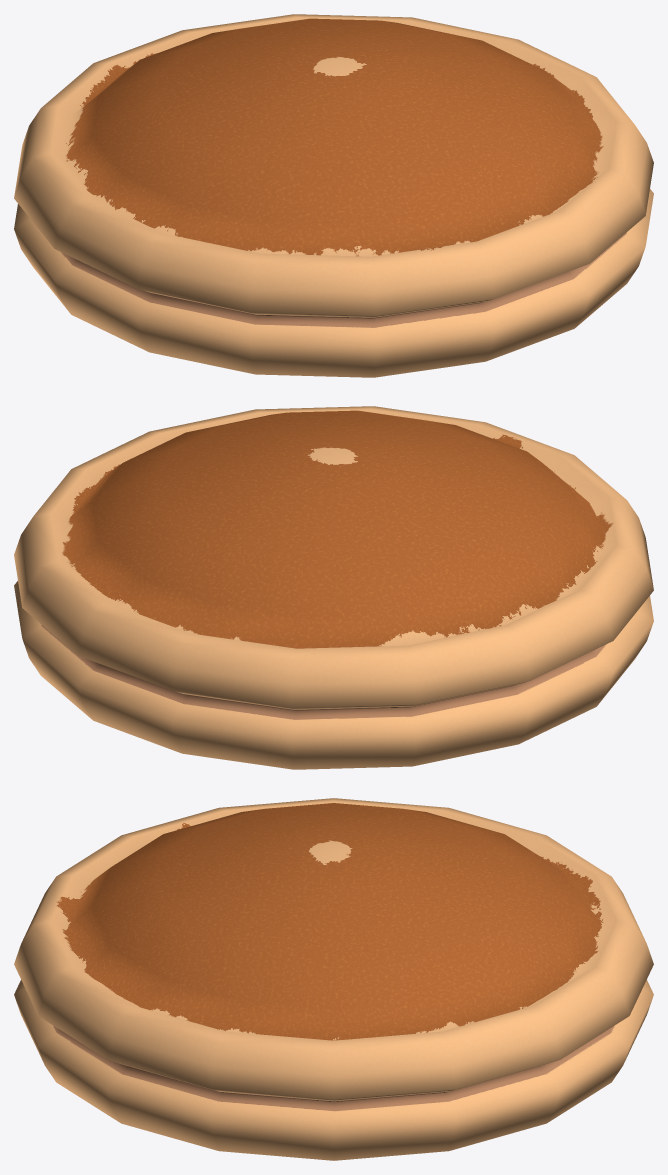
The model's file is item13.fbx.
3 views of the same model, one above another, from view 1: azimuth 30°, elevation 25°; view 2: azimuth 150°, elevation 25°; view 3: azimuth 270°, elevation 25° (orthographic).
Visible parts, largest first — view 1: Rorayaki; view 2: Rorayaki; view 3: Rorayaki.
Boxes of the visible parts, left/top/right/bottom form: Rorayaki: left=14, top=14, right=653, bottom=377; Rorayaki: left=14, top=406, right=653, bottom=769; Rorayaki: left=14, top=798, right=653, bottom=1160.
Size of the model in its own units: 0.5 by 0.227 by 0.5.
Materials: 1 (1 with a texture image).
